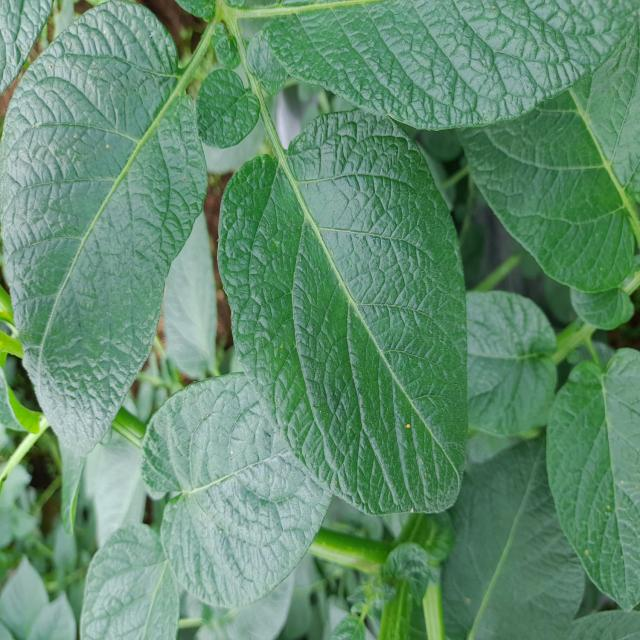healthy: (215, 108, 472, 519)
